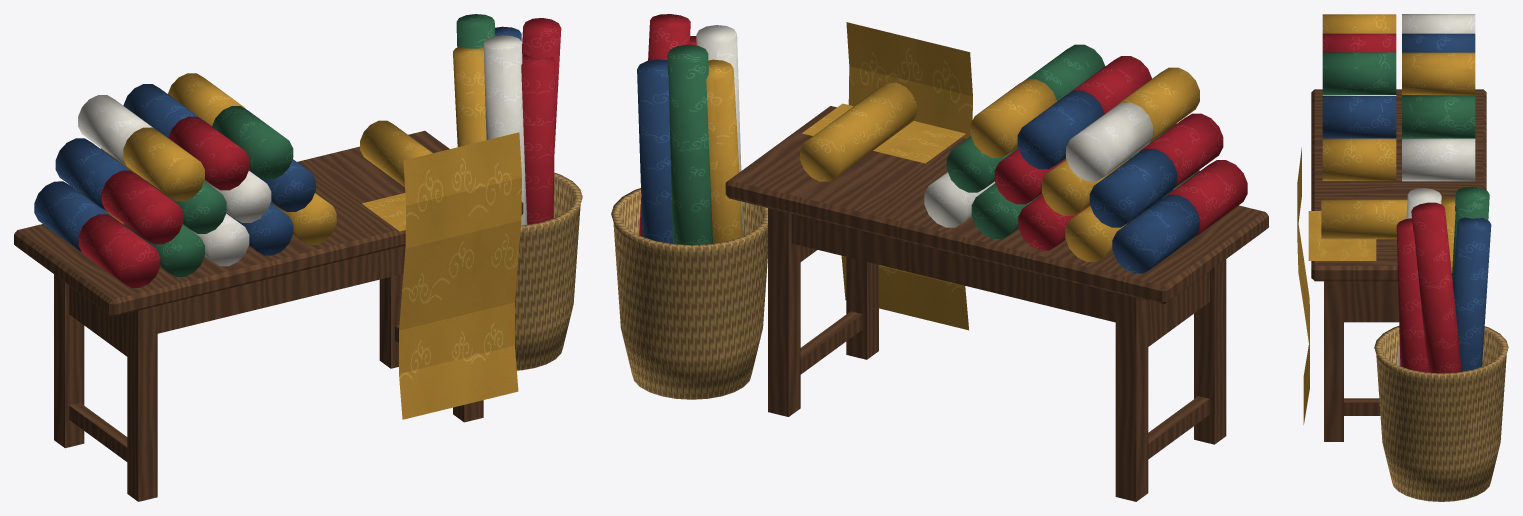
File: cloth_bolts.glb
3 views of the same model, side by side, from view 1: azimuth 30°, elevation 25°; view 2: azimuth 150°, elevation 25°; view 3: azimuth 270°, elevation 25° (orthographic). The views are drawn at different scales.
Visible parts, largest first — view 1: SilkTable, SilkDrape, Bolts_silk_red, Bolts_silk_gold, Bolts_silk_blue, Bolts_silk_white, SilkBasket, Bolts_silk_green; view 2: SilkTable, SilkBasket, Bolts_silk_gold, Bolts_silk_blue, SilkDrape, Bolts_silk_green, Bolts_silk_red, Bolts_silk_white; view 3: SilkBasket, SilkTable, Bolts_silk_gold, Bolts_silk_red, Bolts_silk_blue, Bolts_silk_green, Bolts_silk_white, SilkDrape.
Part boxes in pixels (left/top/right/bottom): SilkTable: left=14, top=130, right=523, bottom=501; SilkDrape: left=362, top=132, right=521, bottom=419; Bolts_silk_red: left=78, top=18, right=561, bottom=287; Bolts_silk_gold: left=100, top=46, right=486, bottom=244; Bolts_silk_blue: left=34, top=26, right=521, bottom=255; Bolts_silk_white: left=78, top=35, right=527, bottom=266; SilkBasket: left=515, top=172, right=582, bottom=370; Bolts_silk_green: left=123, top=14, right=494, bottom=276; SilkTable: left=725, top=106, right=1268, bottom=501; SilkBasket: left=611, top=188, right=767, bottom=399; Bolts_silk_gold: left=706, top=59, right=1199, bottom=261; Bolts_silk_blue: left=637, top=59, right=1199, bottom=273; SilkDrape: left=802, top=22, right=972, bottom=330; Bolts_silk_green: left=667, top=44, right=1199, bottom=244; Bolts_silk_red: left=639, top=14, right=1247, bottom=250; Bolts_silk_white: left=696, top=25, right=1152, bottom=235; SilkBasket: left=1374, top=326, right=1508, bottom=501; SilkTable: left=1311, top=89, right=1486, bottom=441; Bolts_silk_gold: left=1321, top=14, right=1475, bottom=272; Bolts_silk_red: left=1322, top=33, right=1475, bottom=373; Bolts_silk_blue: left=1322, top=33, right=1491, bottom=371; Bolts_silk_green: left=1322, top=52, right=1489, bottom=285; Bolts_silk_white: left=1322, top=14, right=1475, bottom=366; SilkDrape: left=1297, top=147, right=1376, bottom=424.
Size of what is drawn, in the model's own units: 1.94 by 1.15 by 0.7474.
8 materials, 8 textured.
